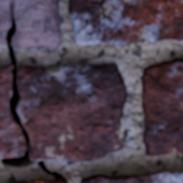brick: (69, 0, 182, 45), (142, 59, 182, 155), (82, 171, 182, 182), (29, 179, 66, 182)
broken_brick: (18, 63, 128, 163), (0, 0, 62, 50), (0, 64, 24, 158)
crack: (0, 2, 63, 180), (90, 0, 106, 21), (162, 0, 171, 11)
